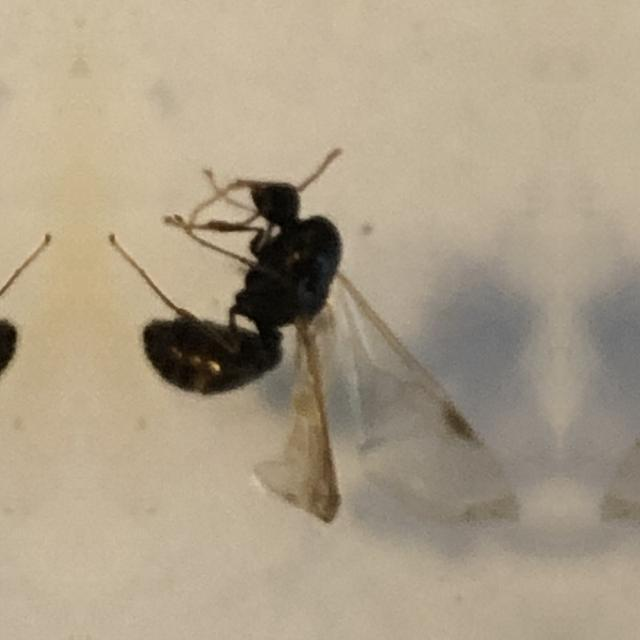Tetramorium: (90, 128, 372, 426), (0, 128, 70, 424)
